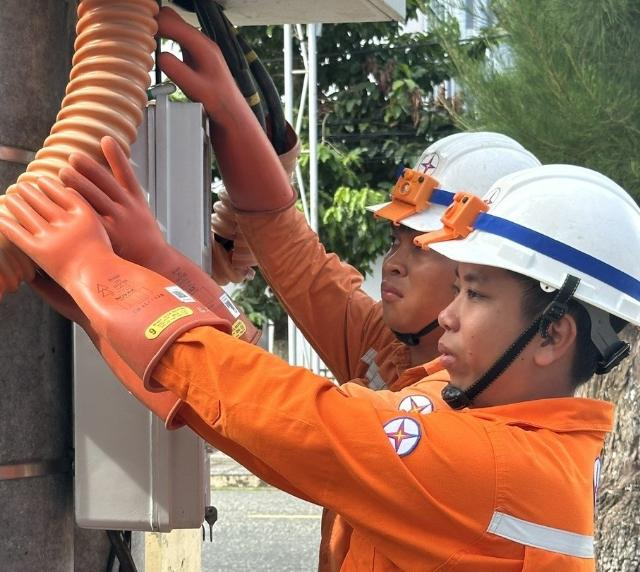gloves: (0, 167, 220, 378), (61, 132, 273, 347), (1, 251, 207, 444)
helmet: (425, 131, 640, 336), (357, 110, 536, 244)
